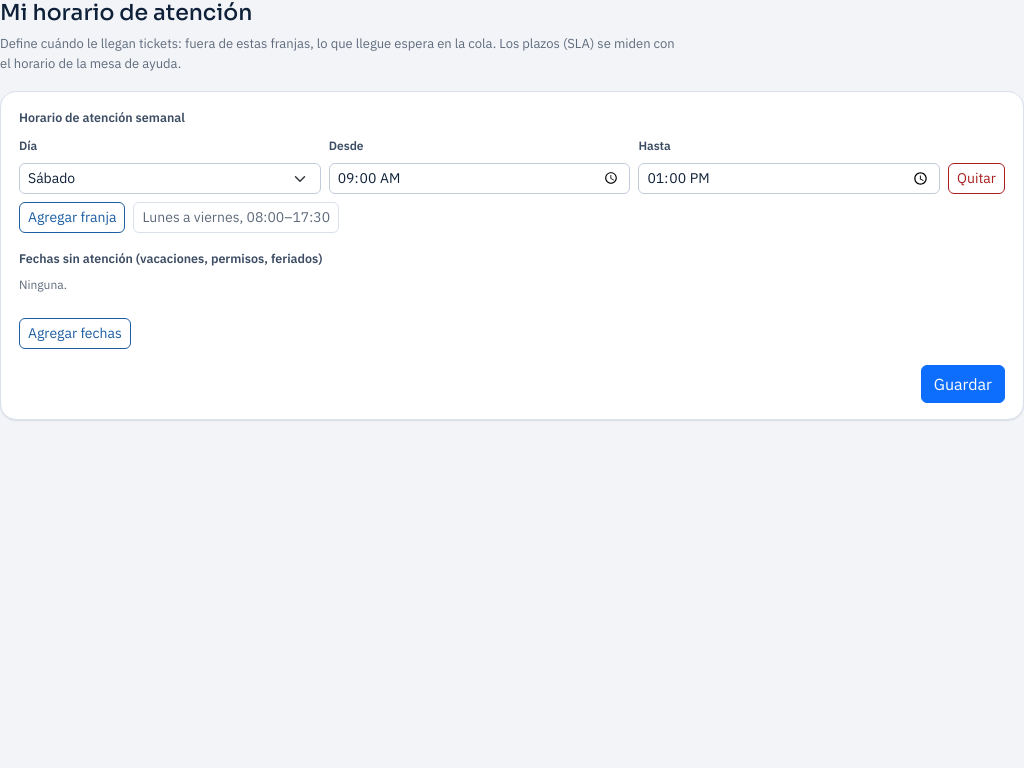
Test: Las franjas del horario › el atajo pregunta antes de reemplazar las franjas
Click the button "Lunes a viernes, 08:00–17:30".
click(236, 218)  # box [133, 202, 339, 233]
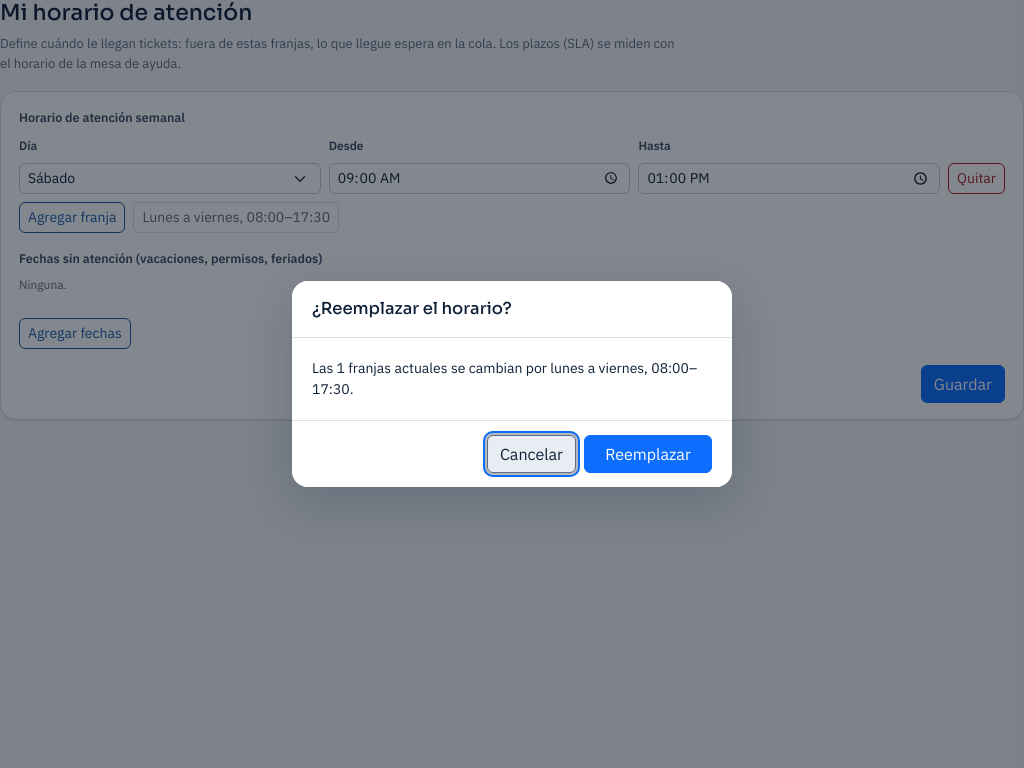
Click the button "Reemplazar".
click(648, 454)  # box [584, 435, 712, 473]
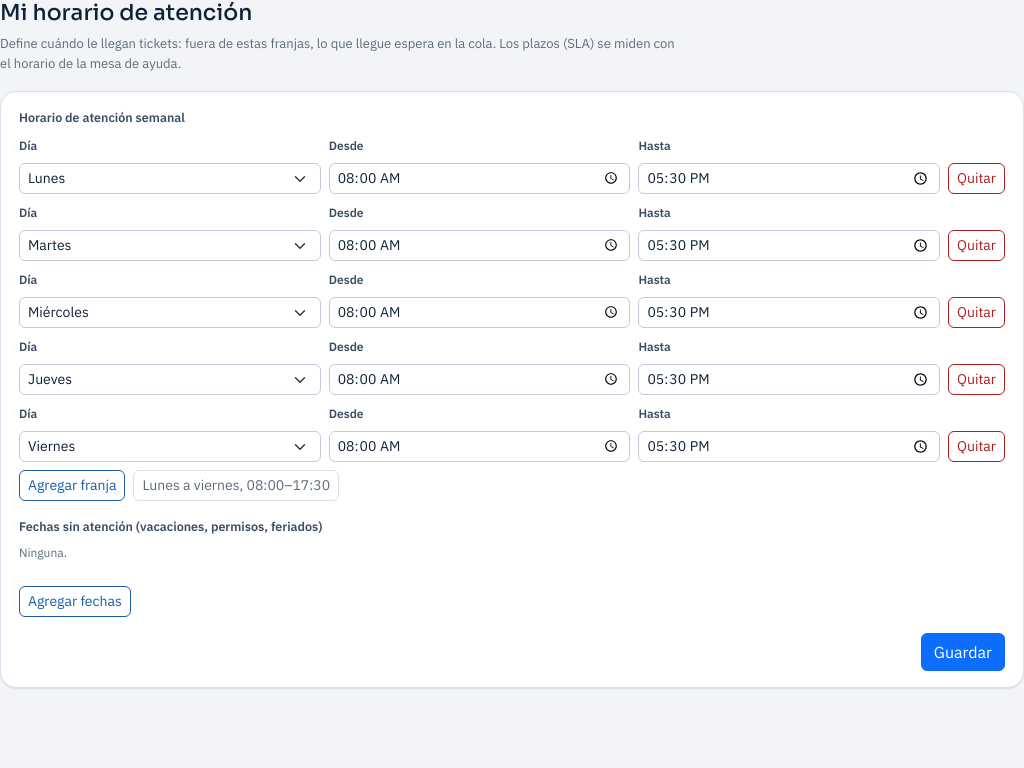
Expected: the number of dropdowns labelled "Día" is 5, [19, 163, 321, 194]; [19, 230, 321, 261]; [19, 297, 321, 328]; [19, 364, 321, 395]; [19, 431, 321, 462]
